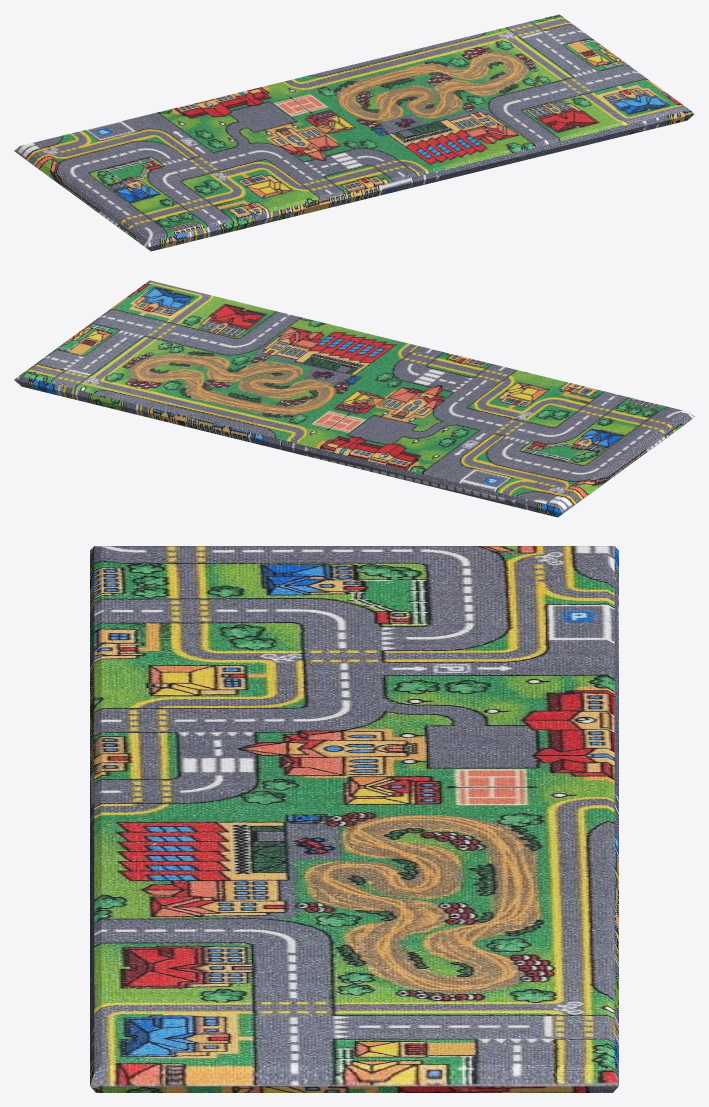
File: enfant_carpet.fbx
3 views of the same model, one above another, from view 1: azimuth 30°, elevation 25°; view 2: azimuth 150°, elevation 25°; view 3: azimuth 270°, elevation 25° (orthographic). The views are drawn at different scales.
Parts seen in each view (by area): view 1: Tapis enfant2; view 2: Tapis enfant2; view 3: Tapis enfant2.
Boxes of the visible parts, x1=… form: Tapis enfant2: x1=14, y1=14, x2=694, y2=251; Tapis enfant2: x1=14, y1=280, x2=694, y2=517; Tapis enfant2: x1=90, y1=546, x2=618, y2=1092.
Size of the model in its own units: 351 by 7.83 by 146.
Materials: 1 (1 with a texture image).
